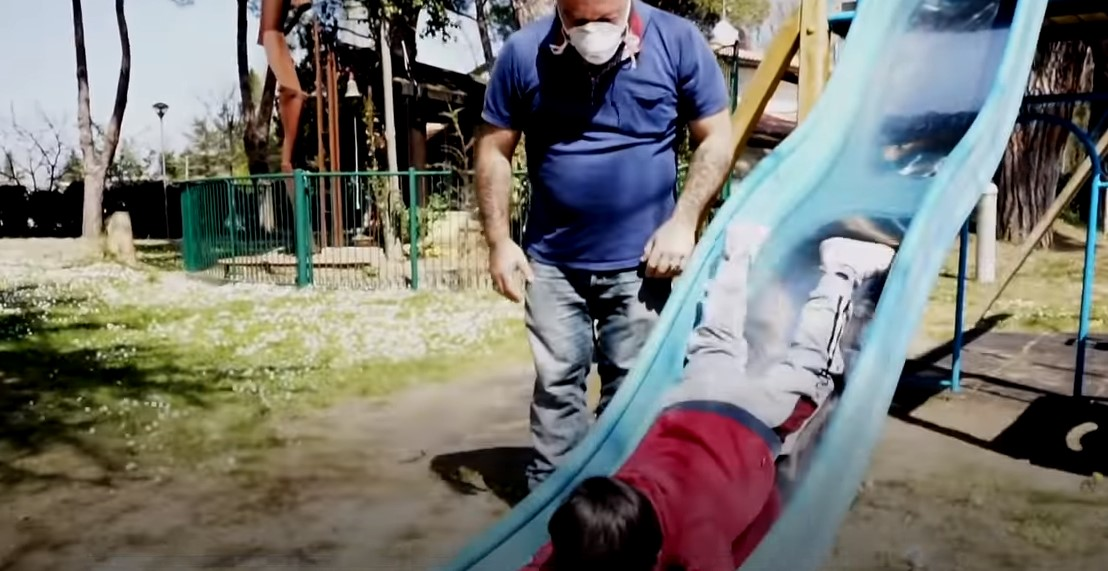face_with_mask: (544, 6, 639, 74)
